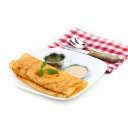dosa: (9, 54, 89, 96)
